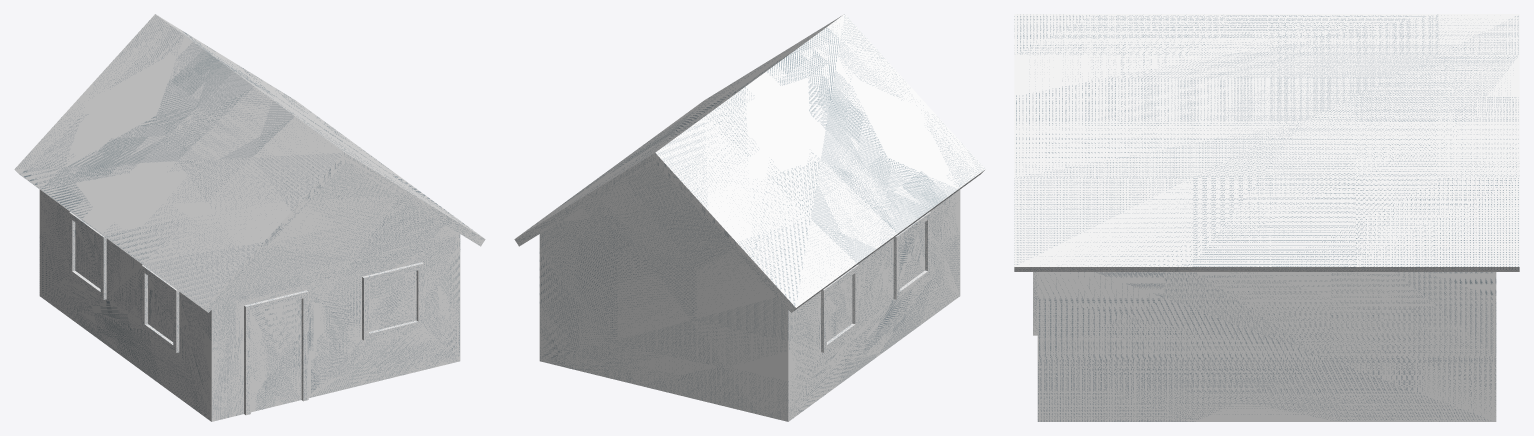
The model's file is haus.dae.
3 renders of one model, left to right at view 1: azimuth 30°, elevation 25°; view 2: azimuth 150°, elevation 25°; view 3: azimuth 270°, elevation 25°, orthographic. The views are drawn at different scales.
Visible parts, largest first — view 1: SketchUp (×7); view 2: SketchUp (×5); view 3: SketchUp.
Boxes of the visible parts, x1,y1,x2,y2 form: SketchUp (×7): (14,14,485,421); SketchUp (×5): (514,14,985,421); SketchUp: (1014,14,1519,421).
Bounding box in the file's own units: 147 × 171 × 122.
